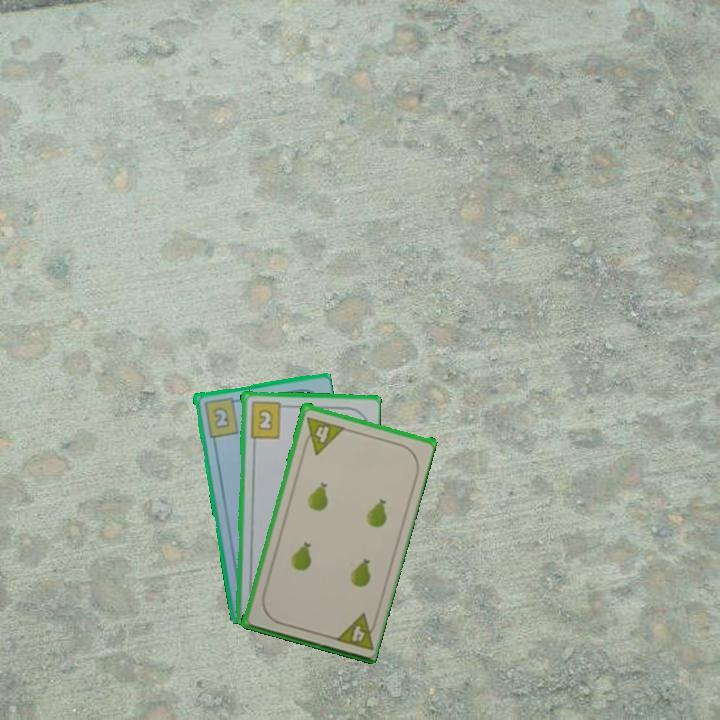2b: (200, 394, 243, 440), (246, 398, 289, 440)
4p: (330, 609, 381, 653), (299, 413, 346, 457)
